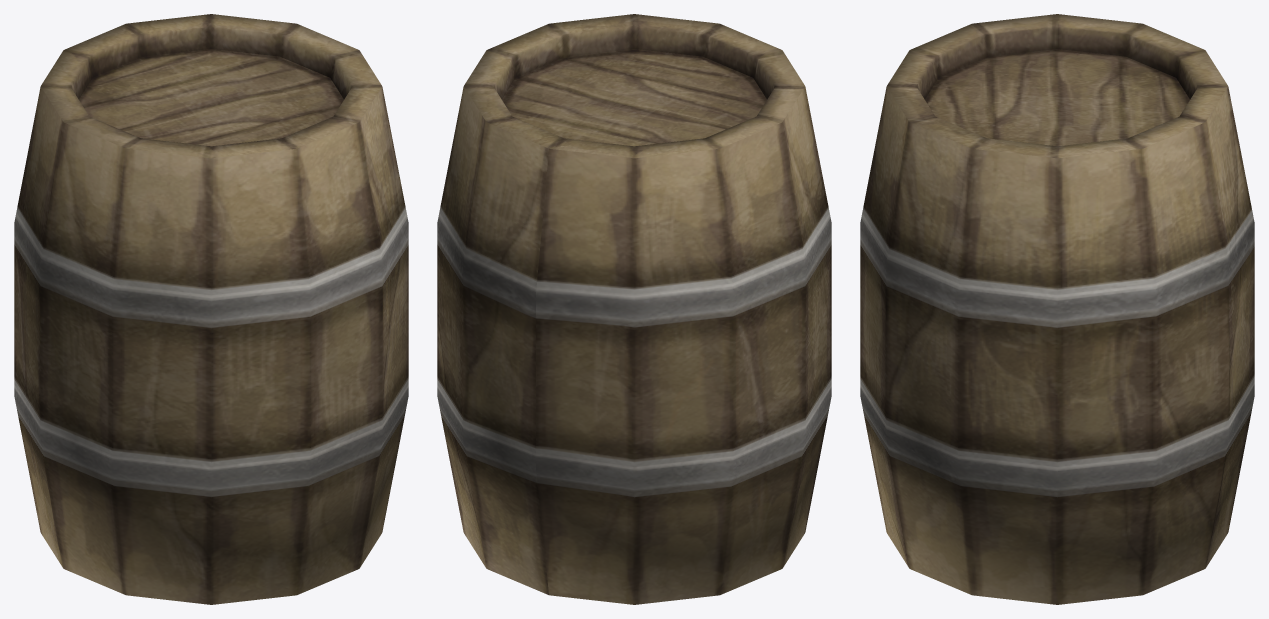
Rendered from barrel.FBX.
The picture shows the model from 3 angles, left to right: view 1: azimuth 30°, elevation 25°; view 2: azimuth 150°, elevation 25°; view 3: azimuth 270°, elevation 25°; orthographic projection.
Visible parts, largest first — view 1: Object018; view 2: Object018; view 3: Object018.
Boxes of the visible parts, <box> form: Object018: <box>14,14,408,604</box>; Object018: <box>437,14,831,604</box>; Object018: <box>860,14,1254,604</box>.
Size of the model in its own units: 0.8217 by 1.03 by 0.8217.
